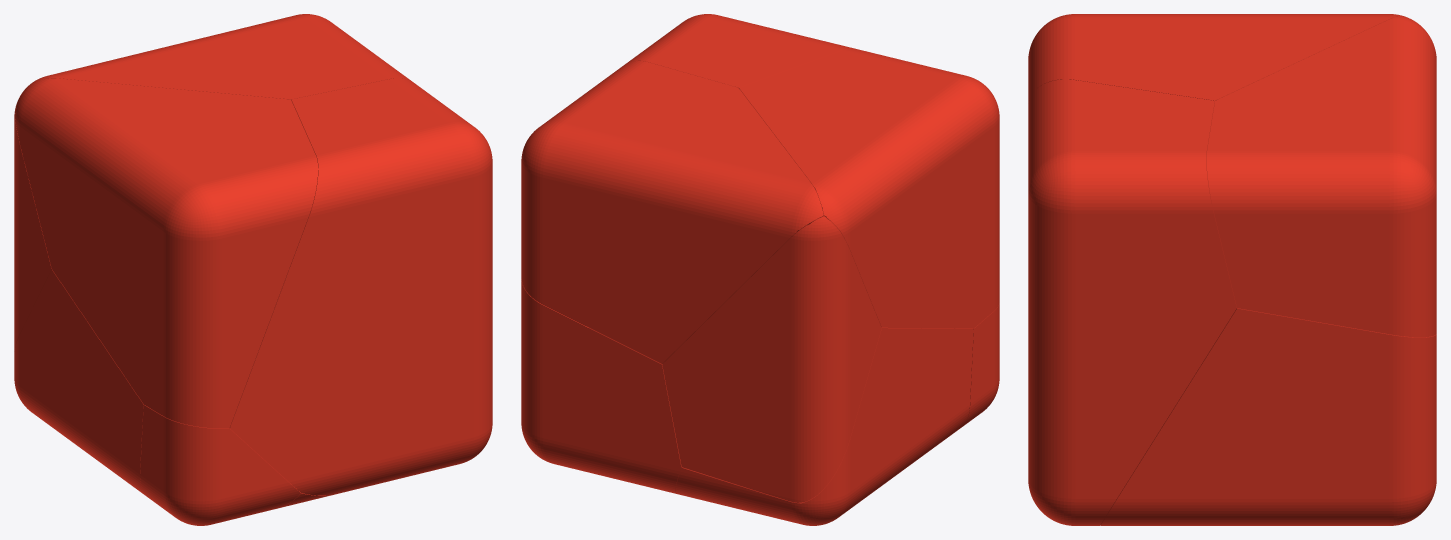
The model's file is box-broken-Blue.fbx.
3 views of the same model, side by side, from view 1: azimuth 30°, elevation 25°; view 2: azimuth 150°, elevation 25°; view 3: azimuth 270°, elevation 25° (orthographic). The views are drawn at different scales.
Visible parts, largest first — view 1: Cube_cell.003, Cube_cell.006, Cube_cell, Cube_cell.005, Cube_cell.007, Cube_cell.004; view 2: Cube_cell, Cube_cell.006, Cube_cell.004, Cube_cell.001, Cube_cell.005, Cube_cell.003, Cube_cell.007; view 3: Cube_cell.003, Cube_cell, Cube_cell.001, Cube_cell.006.
Part boxes in pixels (x1,y1,x2,y2): Cube_cell.003: (230, 78, 492, 495); Cube_cell.006: (15, 78, 318, 428); Cube_cell: (22, 14, 411, 99); Cube_cell.005: (14, 269, 332, 509); Cube_cell.007: (140, 405, 300, 525); Cube_cell.004: (14, 94, 51, 351); Cube_cell: (521, 61, 823, 363); Cube_cell.006: (739, 48, 999, 328); Cube_cell.004: (662, 216, 881, 502); Cube_cell.001: (521, 279, 681, 493); Cube_cell.005: (675, 327, 973, 525); Cube_cell.003: (625, 14, 855, 88); Cube_cell.007: (962, 303, 999, 426); Cube_cell.003: (1028, 79, 1236, 525); Cube_cell: (1206, 16, 1436, 337); Cube_cell.001: (1100, 308, 1436, 525); Cube_cell.006: (1028, 14, 1405, 103).
Bounding box in the file's own units: 200 × 200 × 200.
